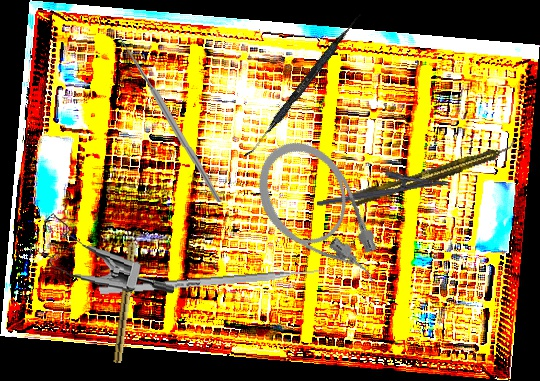Cannula: (239, 125, 399, 311)
Handpiece: (346, 139, 520, 209), (113, 227, 141, 364)
Hook Surgical: (106, 33, 223, 204)
Needle Holder: (313, 161, 451, 208)
Pusher: (99, 265, 335, 296)
Spatula Surgical: (243, 9, 363, 163)
Speculum: (27, 210, 179, 297)
